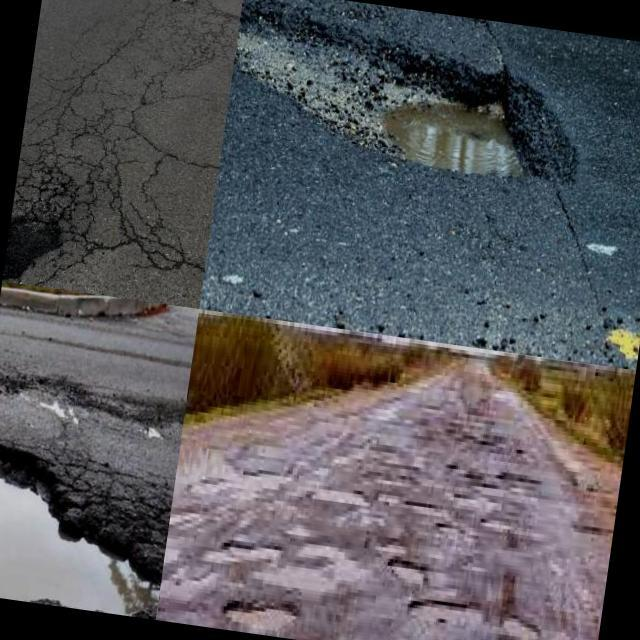Pothole: (235, 12, 570, 185), (0, 447, 162, 619), (2, 213, 60, 282), (374, 536, 427, 585), (176, 448, 244, 482), (228, 602, 290, 631), (159, 570, 192, 601), (501, 617, 540, 640), (222, 543, 255, 566), (295, 564, 324, 588), (432, 608, 469, 625), (315, 494, 361, 507)
